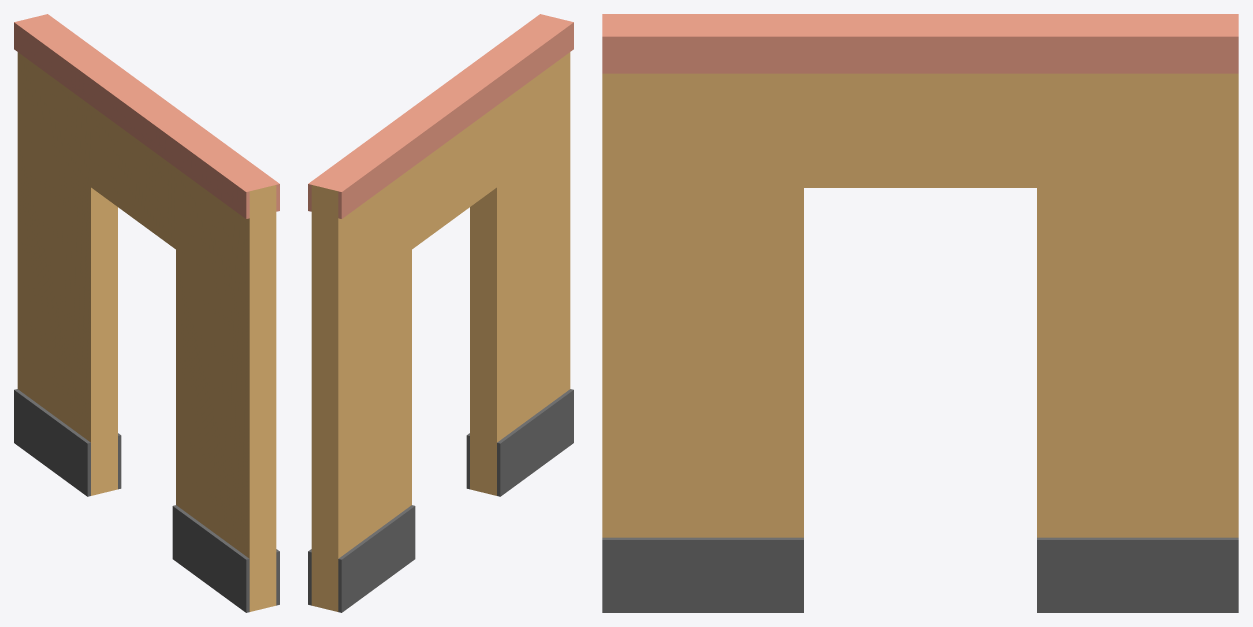
Rendered from Wall02.fbx.
3 renders of one model, left to right at view 1: azimuth 30°, elevation 25°; view 2: azimuth 150°, elevation 25°; view 3: azimuth 270°, elevation 25°, orthographic. The views are drawn at different scales.
Parts seen in each view (by area): view 1: Wall02; view 2: Wall02; view 3: Wall02.
Boxes of the visible parts, left/top/right/bottom form: Wall02: left=14, top=14, right=279, bottom=612; Wall02: left=308, top=14, right=573, bottom=612; Wall02: left=602, top=14, right=1238, bottom=612.
Bounding box in the file's own units: 0.2519 × 3 × 3.
